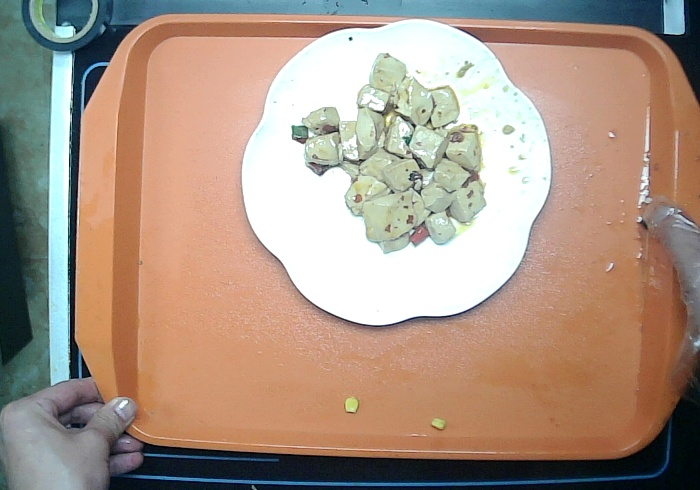HZYJPL-Bai_Se_Hua_Duo_Wan: (239, 16, 553, 329)
